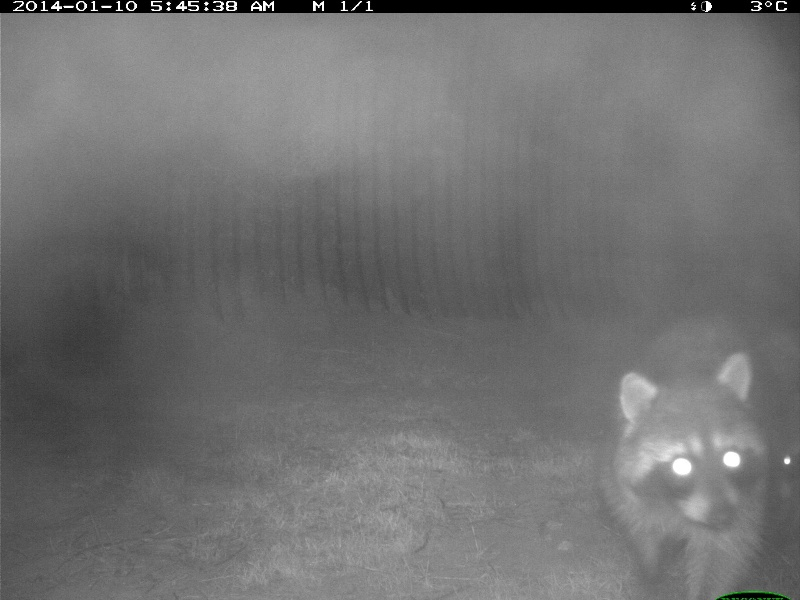raccoon: (596, 322, 773, 592)
